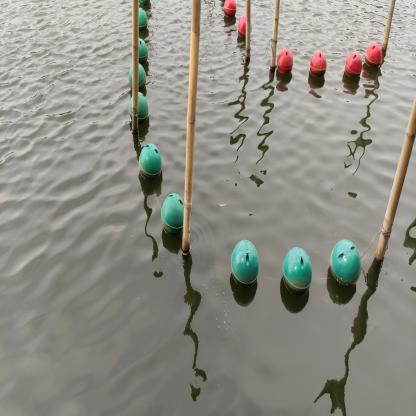green_buoy: (281, 245, 313, 297), (329, 238, 362, 288), (230, 238, 260, 291), (160, 192, 185, 236), (138, 143, 162, 181), (128, 93, 150, 125), (128, 62, 147, 90), (136, 36, 148, 62), (137, 8, 148, 31), (138, 0, 151, 7)
red_buoy: (276, 47, 295, 75), (344, 51, 363, 78), (364, 42, 382, 70), (309, 50, 327, 78), (237, 14, 252, 38), (223, 0, 238, 18)
